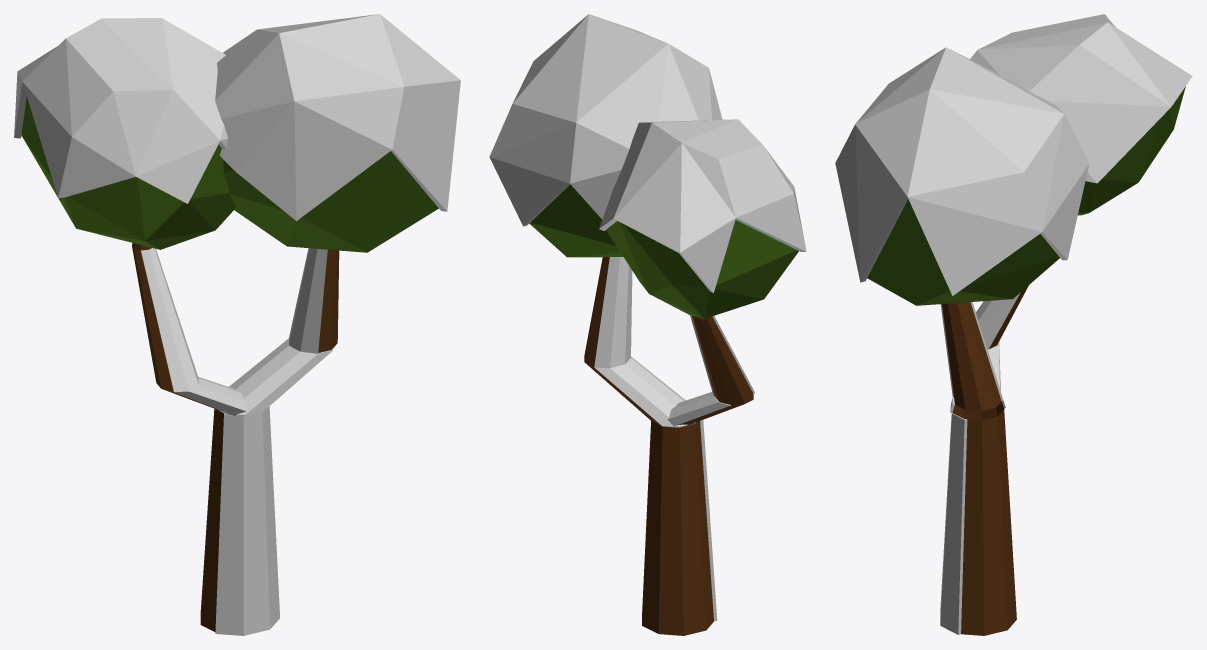
File: Tree_14.fbx
3 renders of one model, left to right at view 1: azimuth 30°, elevation 25°; view 2: azimuth 150°, elevation 25°; view 3: azimuth 270°, elevation 25°, orthographic. The views are drawn at different scales.
Visible parts, largest first — view 1: Tree_14; view 2: Tree_14; view 3: Tree_14.
Part boxes in pixels (left/top/right/bottom): Tree_14: left=14, top=14, right=460, bottom=635; Tree_14: left=489, top=14, right=806, bottom=635; Tree_14: left=835, top=14, right=1192, bottom=635.
Bounding box in the file's own units: 359 × 576 × 318.
